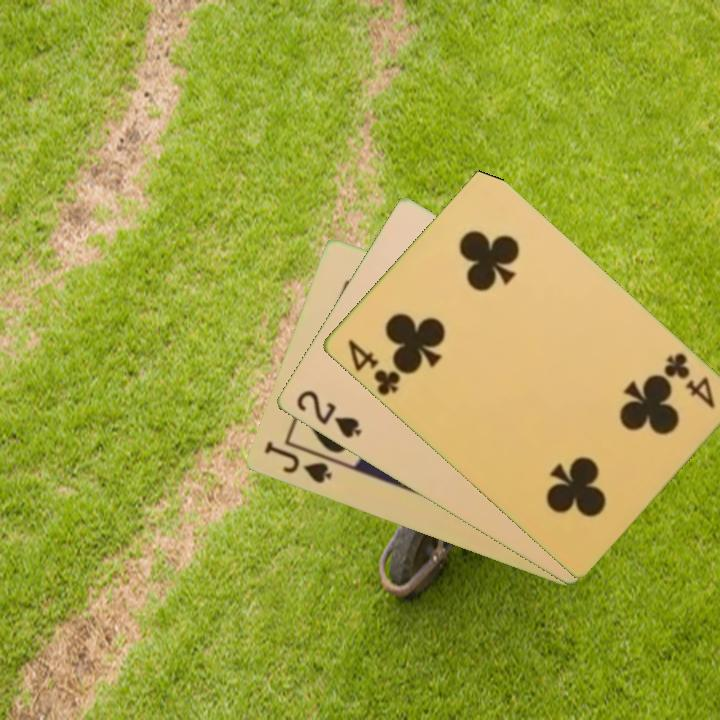2s: (292, 386, 364, 442)
4c: (343, 336, 403, 399), (659, 349, 718, 411)
Js: (260, 438, 335, 487)
